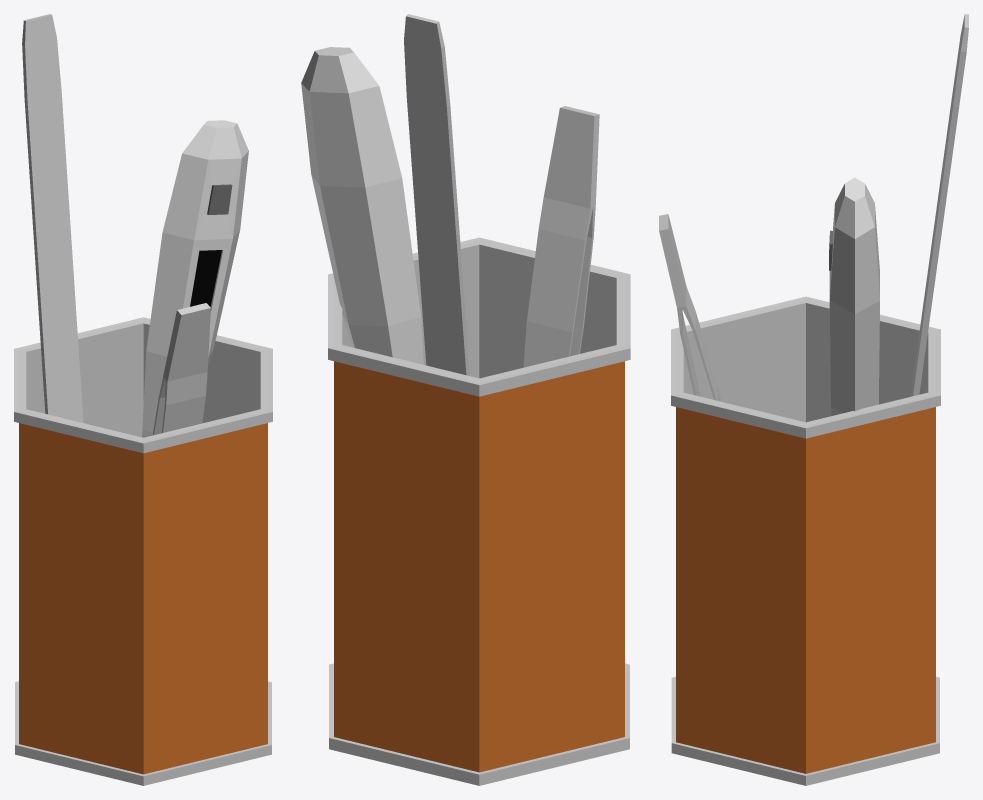
File: H_Tools.fbx
3 views of the same model, side by side, from view 1: azimuth 30°, elevation 25°; view 2: azimuth 150°, elevation 25°; view 3: azimuth 270°, elevation 25° (orthographic). The views are drawn at different scales.
Parts seen in each view (by area): view 1: H_Tools; view 2: H_Tools; view 3: H_Tools.
Boxes of the visible parts, box(x1,y1,x2,y2) form: H_Tools: box(14, 14, 272, 785); H_Tools: box(301, 14, 630, 785); H_Tools: box(659, 14, 968, 785).
Size of the model in its own units: 55.17 by 134 by 54.83.
